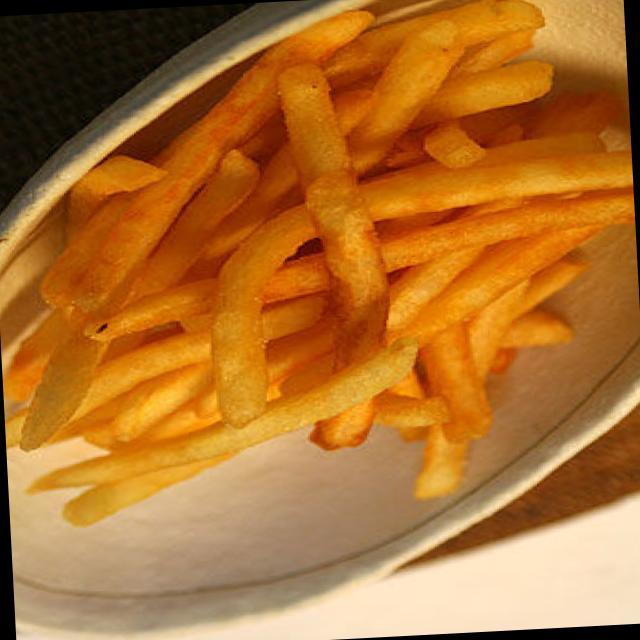French Fries: (16, 4, 622, 542)
